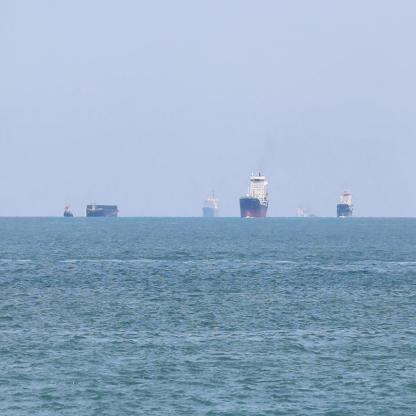Container Ship: (237, 160, 270, 219), (334, 178, 353, 220), (82, 196, 119, 216), (200, 185, 221, 220), (60, 201, 74, 218)
